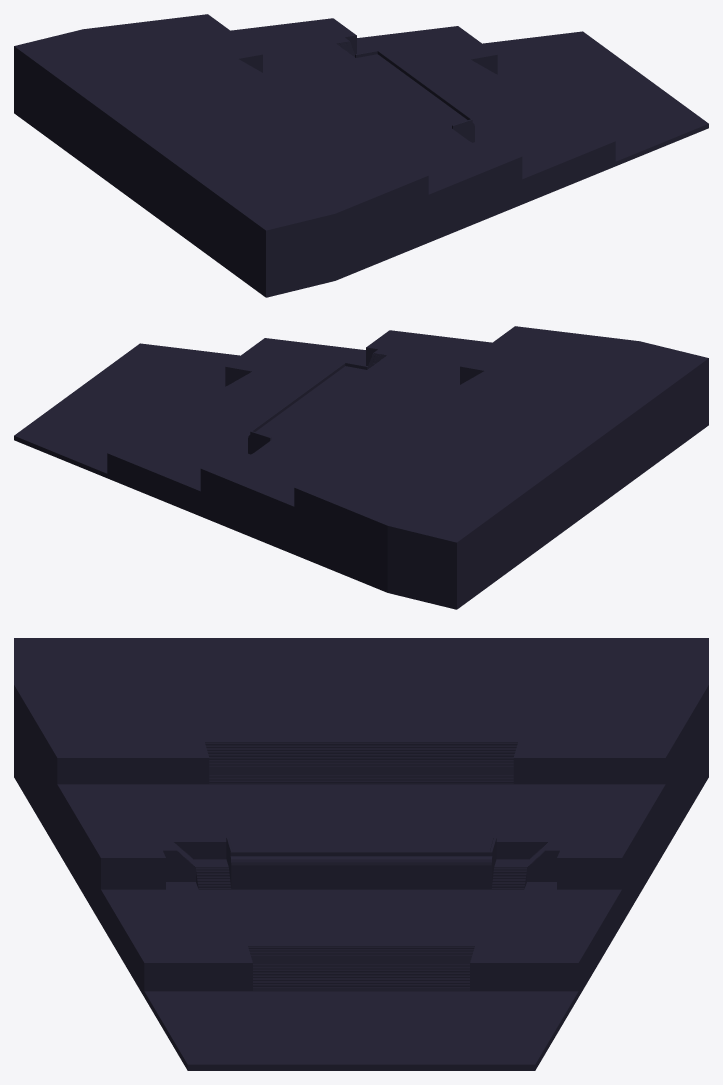
Rendered from nagasawaGround.obj.
3 renders of one model, top to bottom at view 1: azimuth 30°, elevation 25°; view 2: azimuth 150°, elevation 25°; view 3: azimuth 270°, elevation 25°, orthographic. The views are drawn at different scales.
Parts seen in each view (by area): view 1: 立方体; view 2: 立方体; view 3: 立方体.
Part boxes in pixels (x1,y1,x2,y2): 立方体: (14,14,708,297); 立方体: (14,326,708,609); 立方体: (14,638,708,1070).
Bounding box in the file's own units: 232 × 29.4 × 200.
